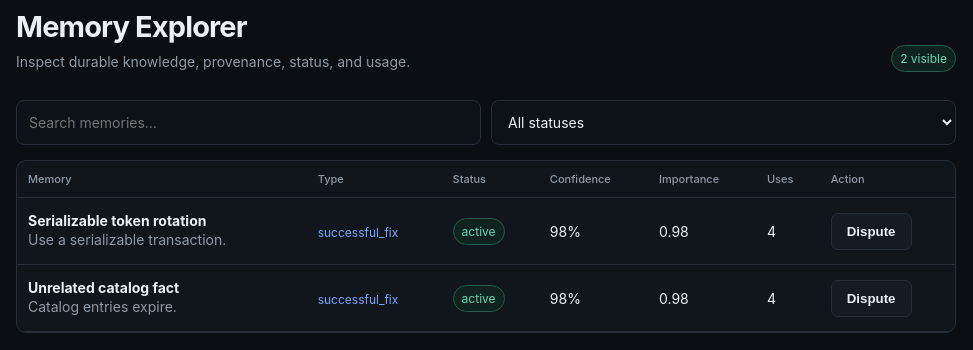
Test: API-driven pages › filters memories by text
This screenshot has width=973, height=350.
Expected: the text "Serializable token rotation" is shown, [28,212,206,229]
In the field labelled "Search memories": (248,122) [16,100,481,145], type "serializable"
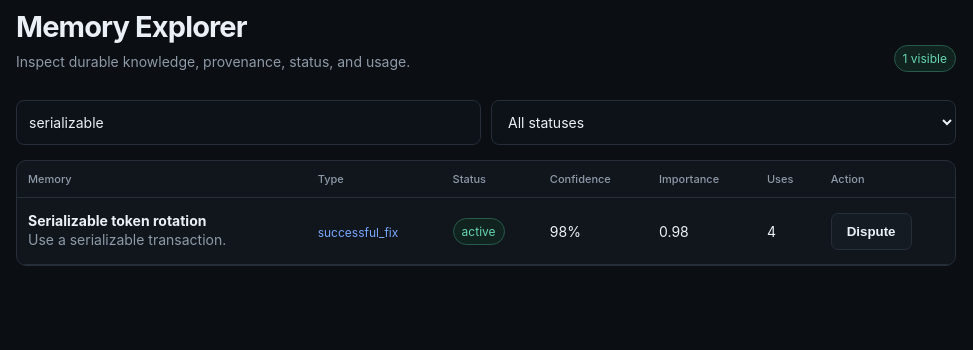
Now the text "Unrelated catalog fact" is gone
